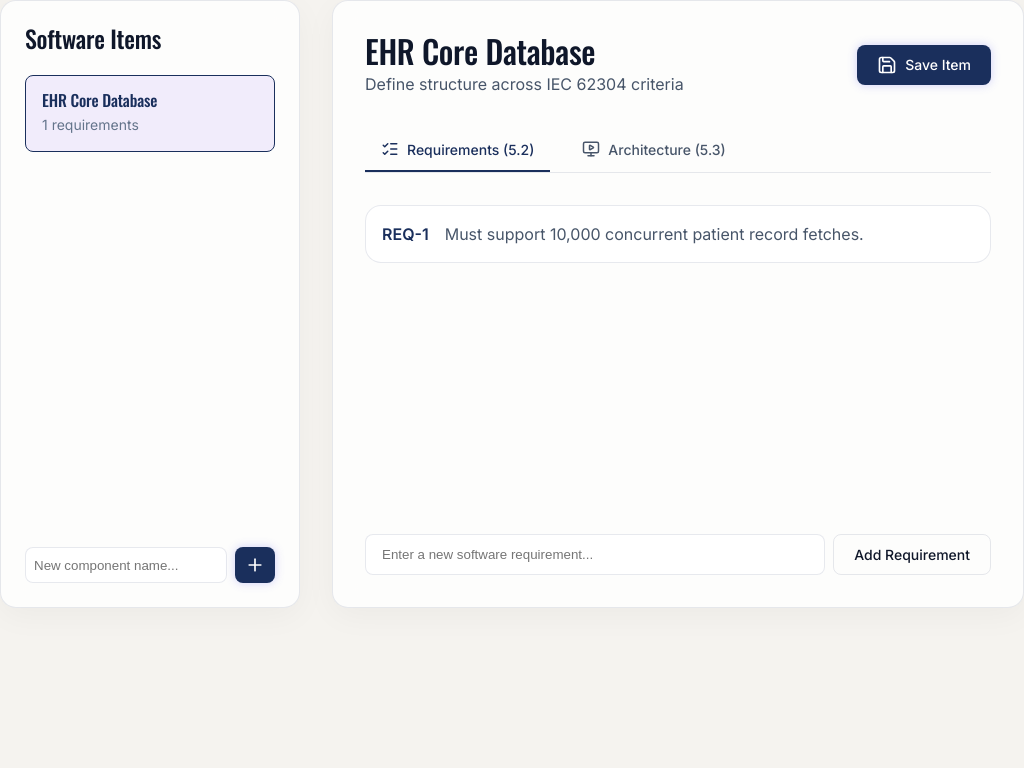
Test: SoftwareArchitecture component › arch.react.01: selecting a different item updates the detail panel
Type "Reporting Service" into the field with placeholder "New component name..." at (126, 565), box [25,547,227,583]
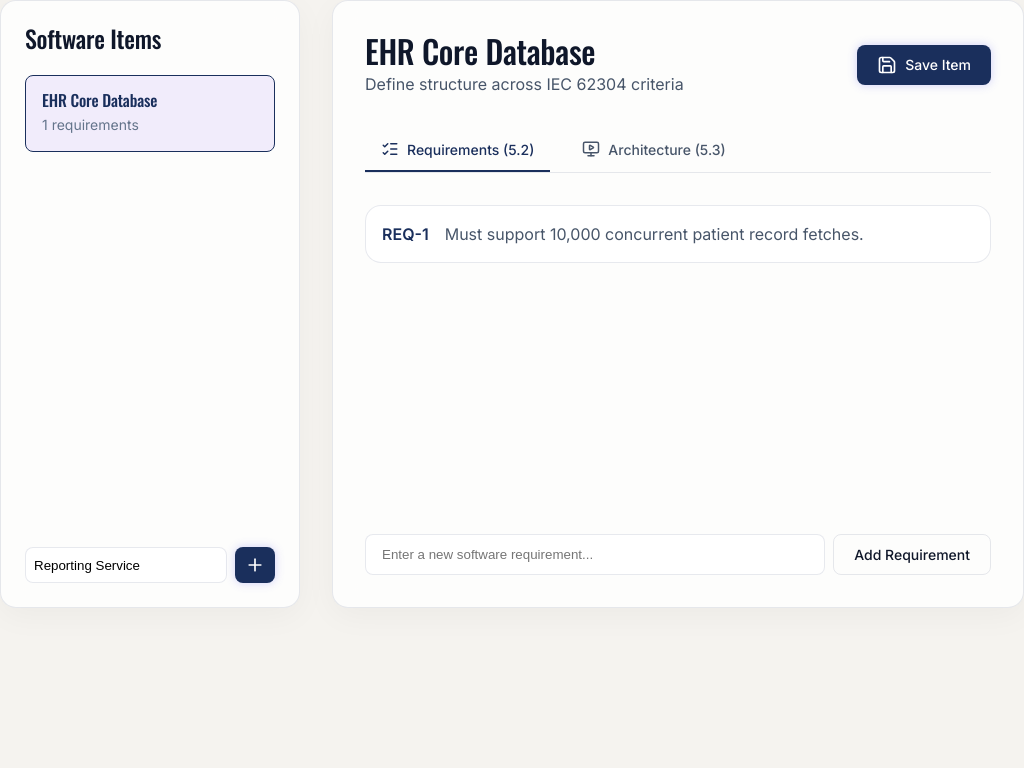
Submit the form with placeholder "new component name", box [25,547,275,583]
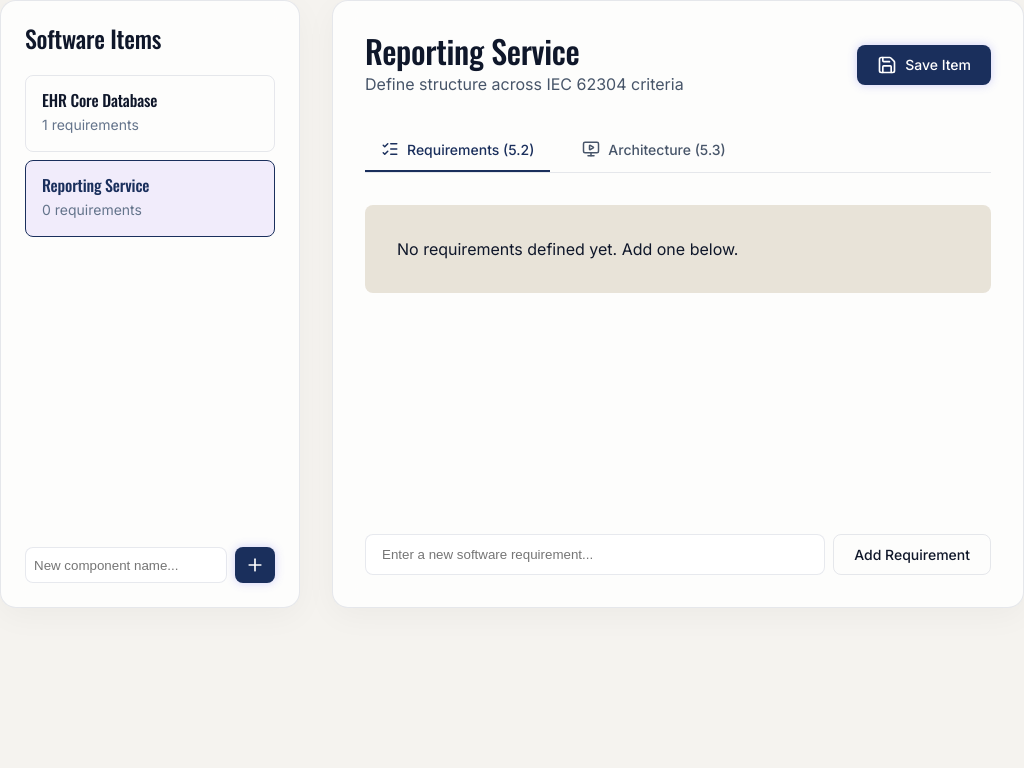
Click the sidebar entry for the original demo item
Click the heading "EHR Core Database" at (100, 100), box [42,88,157,112]
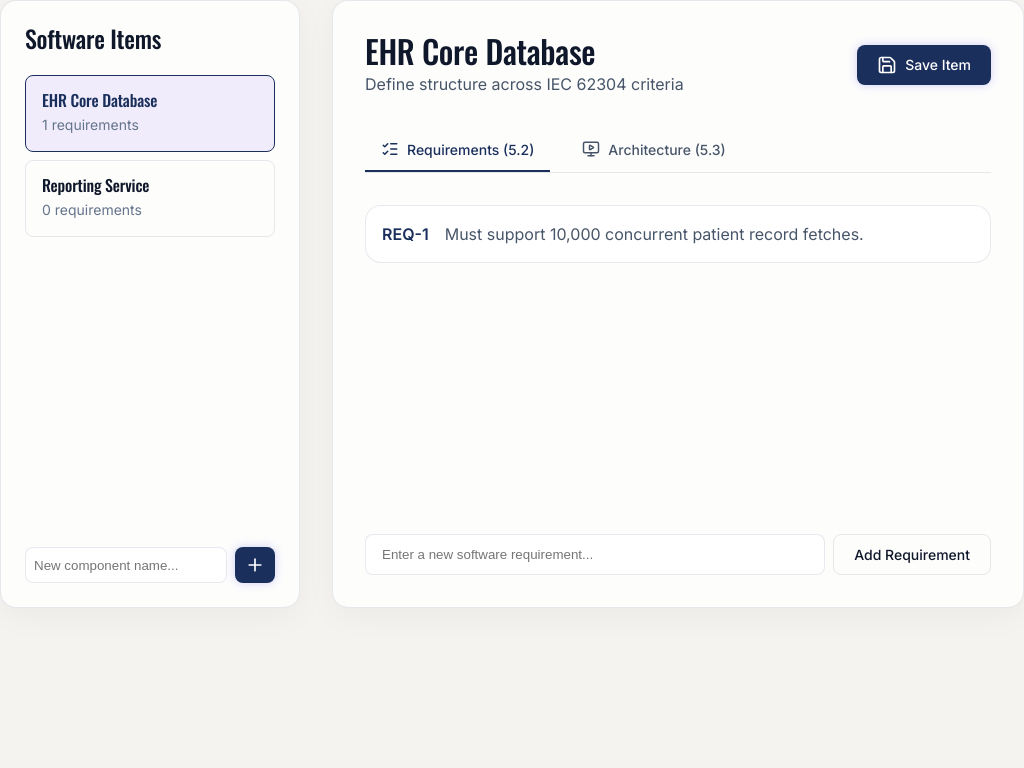
Result: the text "Must support 10,000 concurrent patient record fetches." is shown at [445,222,864,246]
